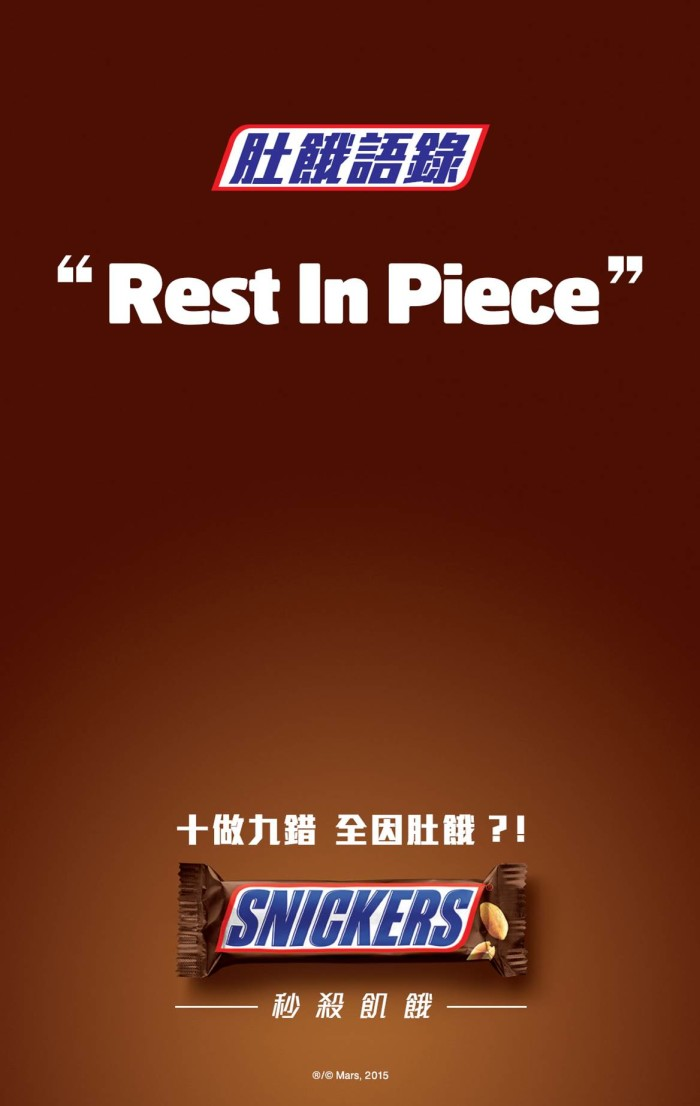snickers: (223, 883, 468, 943), (223, 886, 468, 943)
